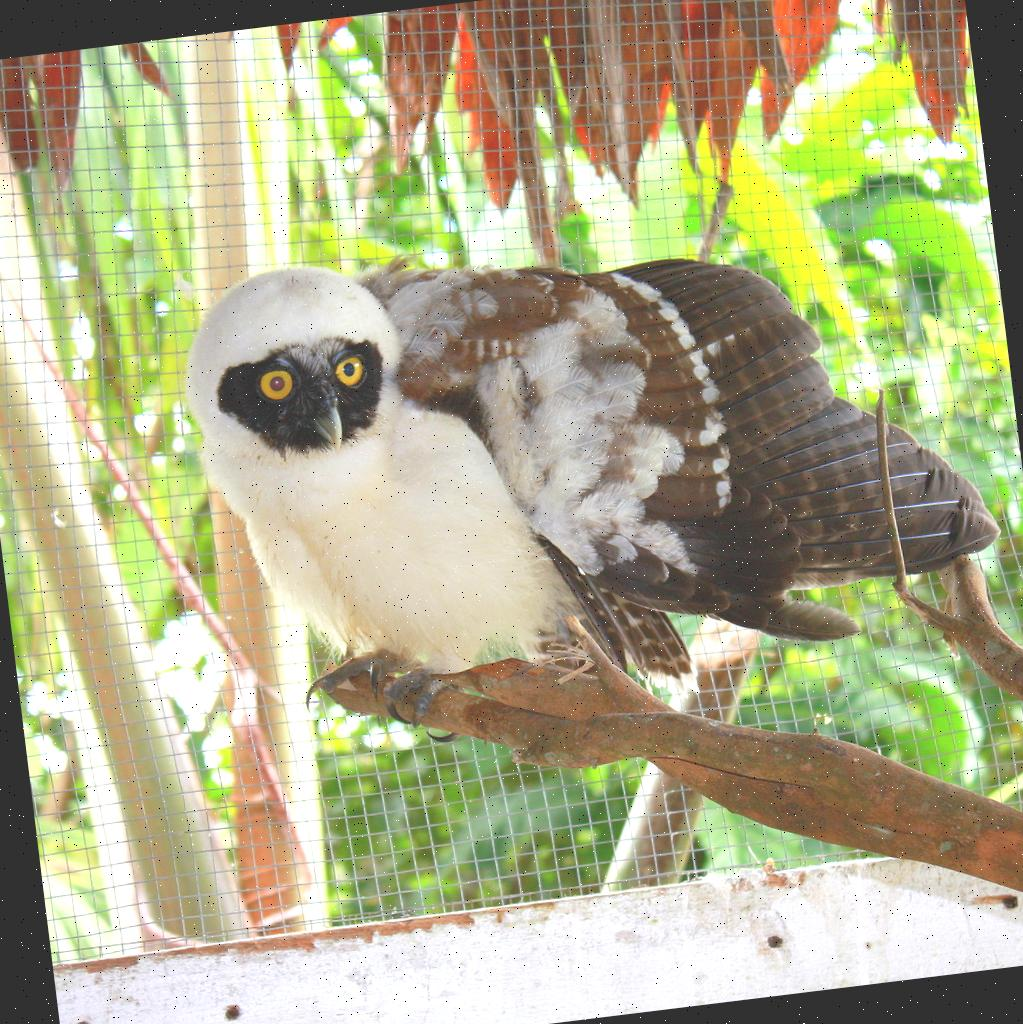Owl: (168, 173, 1008, 744)
